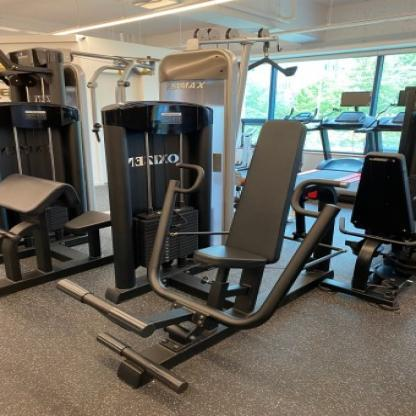Chest Press machine: (49, 23, 416, 403)
